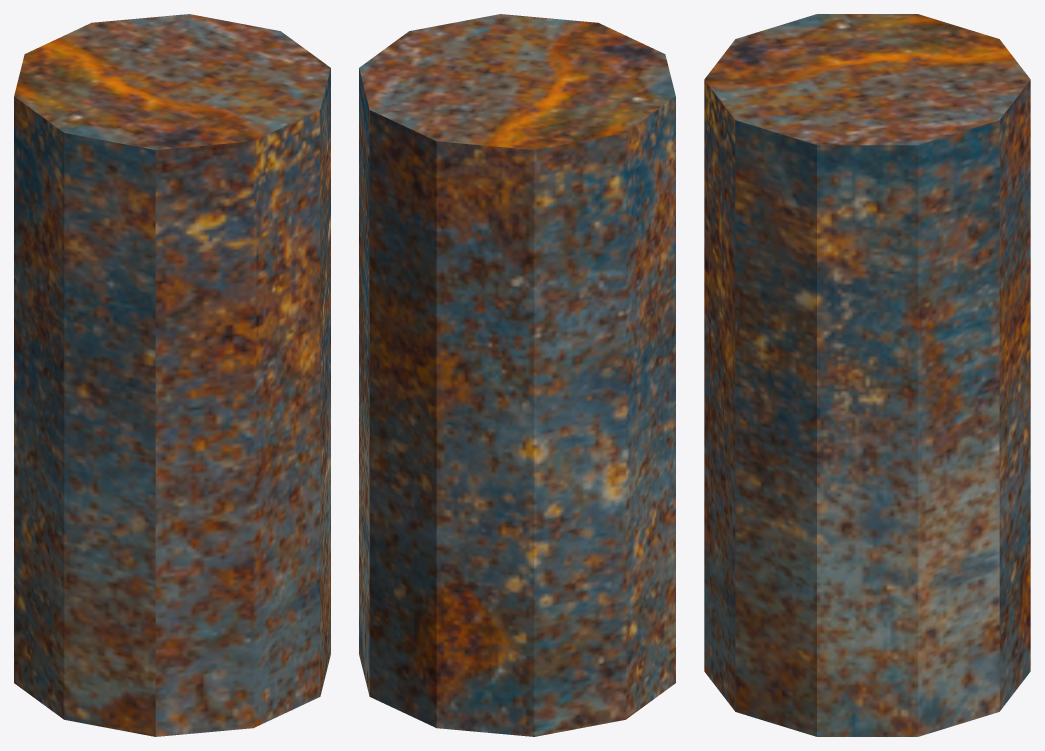
Rendered from pillar02.fbx.
The picture shows the model from 3 angles, left to right: view 1: azimuth 30°, elevation 25°; view 2: azimuth 150°, elevation 25°; view 3: azimuth 270°, elevation 25°; orthographic projection.
Parts seen in each view (by area): view 1: pilar; view 2: pilar; view 3: pilar.
Part boxes in pixels (x1=…): pilar: x1=14, y1=14, x2=330, y2=736; pilar: x1=359, y1=14, x2=675, y2=736; pilar: x1=704, y1=14, x2=1030, y2=736.
Size of the model in its own units: 47.55 by 100 by 50.
